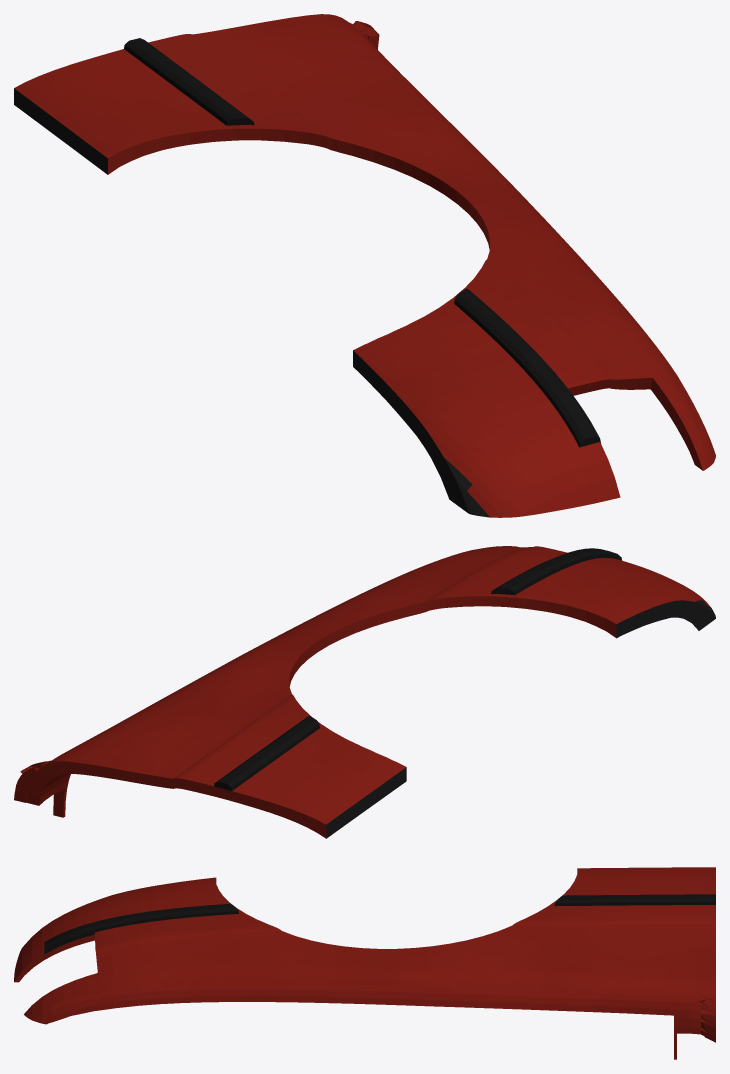
Rendered from paralama_d.glb.
3 views of the same model, one above another, from view 1: azimuth 30°, elevation 25°; view 2: azimuth 150°, elevation 25°; view 3: azimuth 270°, elevation 25° (orthographic). The views are drawn at different scales.
Parts seen in each view (by area): view 1: paralama_d_pintura, paralama_d_borracha, paralama_d_chassi; view 2: paralama_d_pintura, paralama_d_borracha, paralama_d_chassi; view 3: paralama_d_pintura, paralama_d_borracha.
Boxes of the visible parts, x1,y1,x2,y2 form: paralama_d_pintura: (14, 14, 715, 517); paralama_d_borracha: (124, 38, 600, 447); paralama_d_chassi: (14, 88, 489, 517); paralama_d_pintura: (14, 546, 710, 838); paralama_d_borracha: (214, 548, 621, 791); paralama_d_chassi: (326, 600, 715, 838); paralama_d_pintura: (14, 867, 715, 1059); paralama_d_borracha: (44, 894, 715, 954).
Size of the model in its own units: 0.6427 by 0.1889 by 1.45.
Materials: 3 (1 with a texture image).
